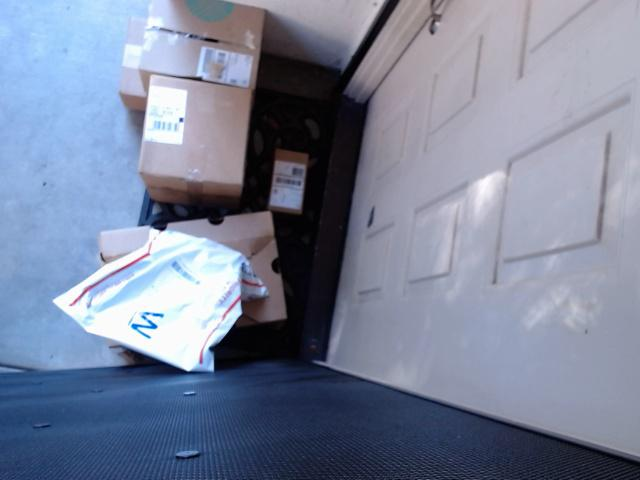box: (84, 215, 312, 344), (134, 63, 261, 207), (108, 5, 278, 92), (270, 139, 326, 223)
plastic_bag: (61, 229, 252, 369)
